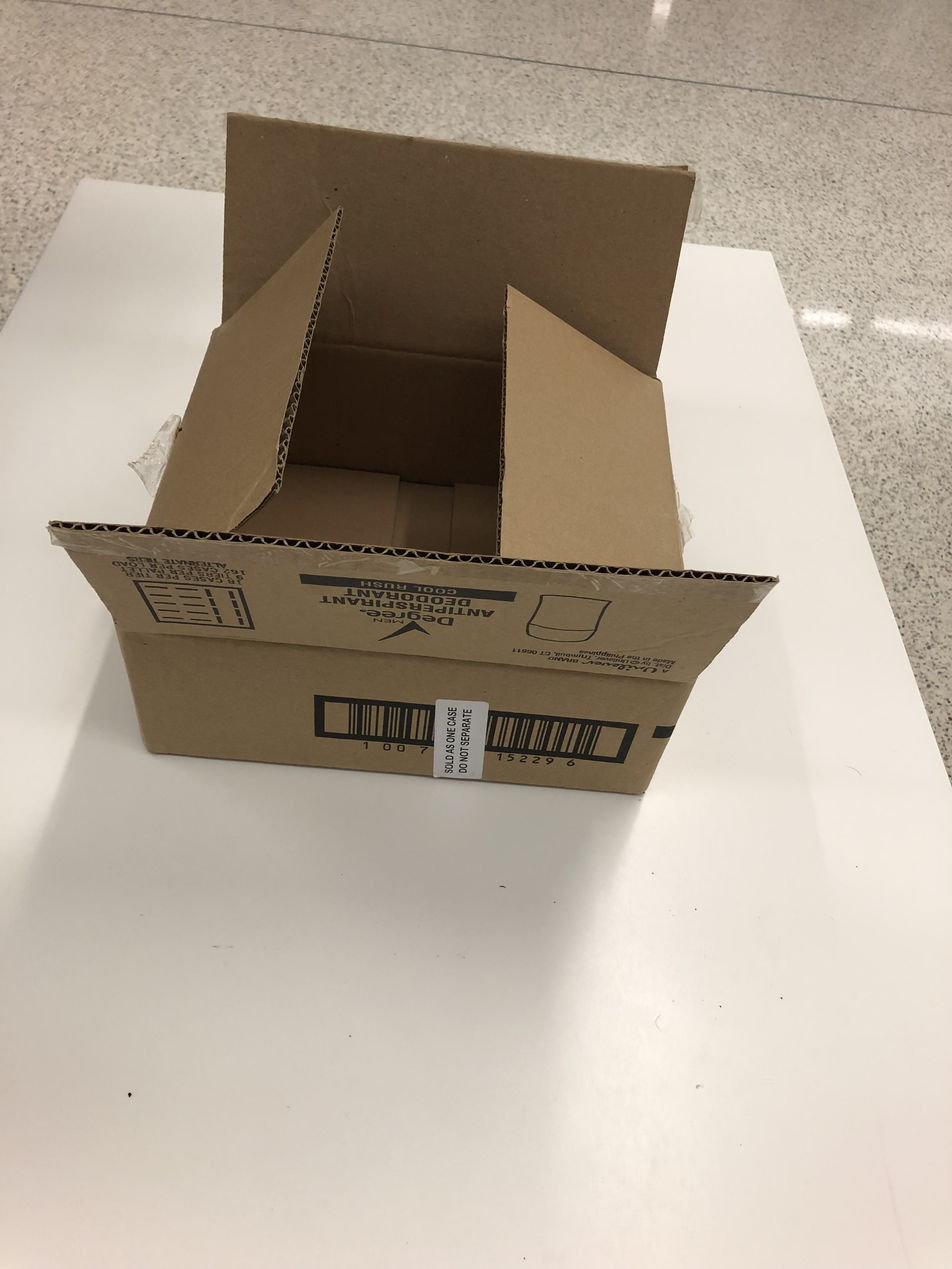box: (43, 107, 774, 804)
crushed: (41, 104, 797, 677)
